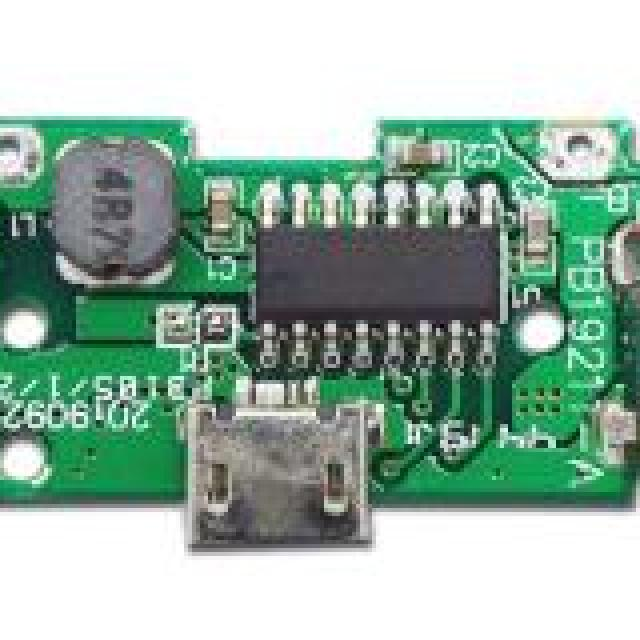IC: (236, 188, 514, 382)
capacitor: (524, 180, 562, 272), (388, 136, 454, 184), (196, 176, 238, 240)
connector: (176, 392, 374, 566), (628, 192, 640, 568)
inductor: (44, 136, 178, 290)
